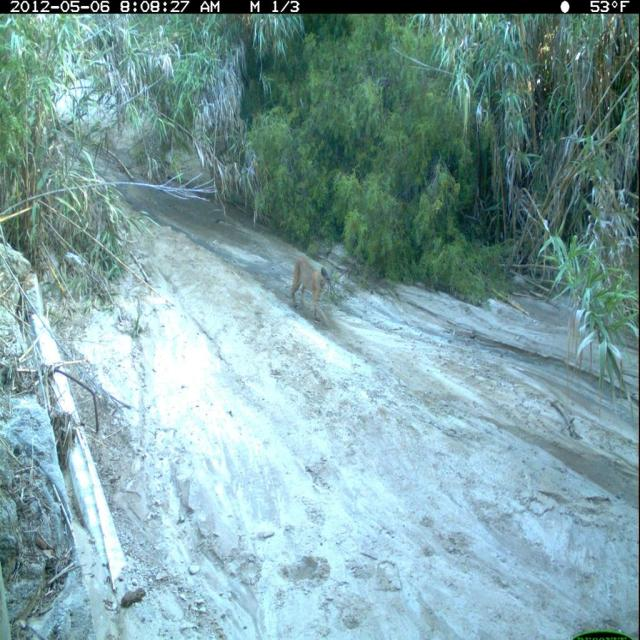bobcat: (286, 254, 339, 336)
